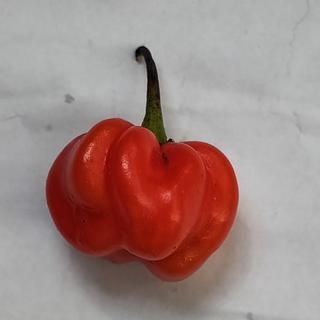Grade-B: (41, 111, 241, 282)
